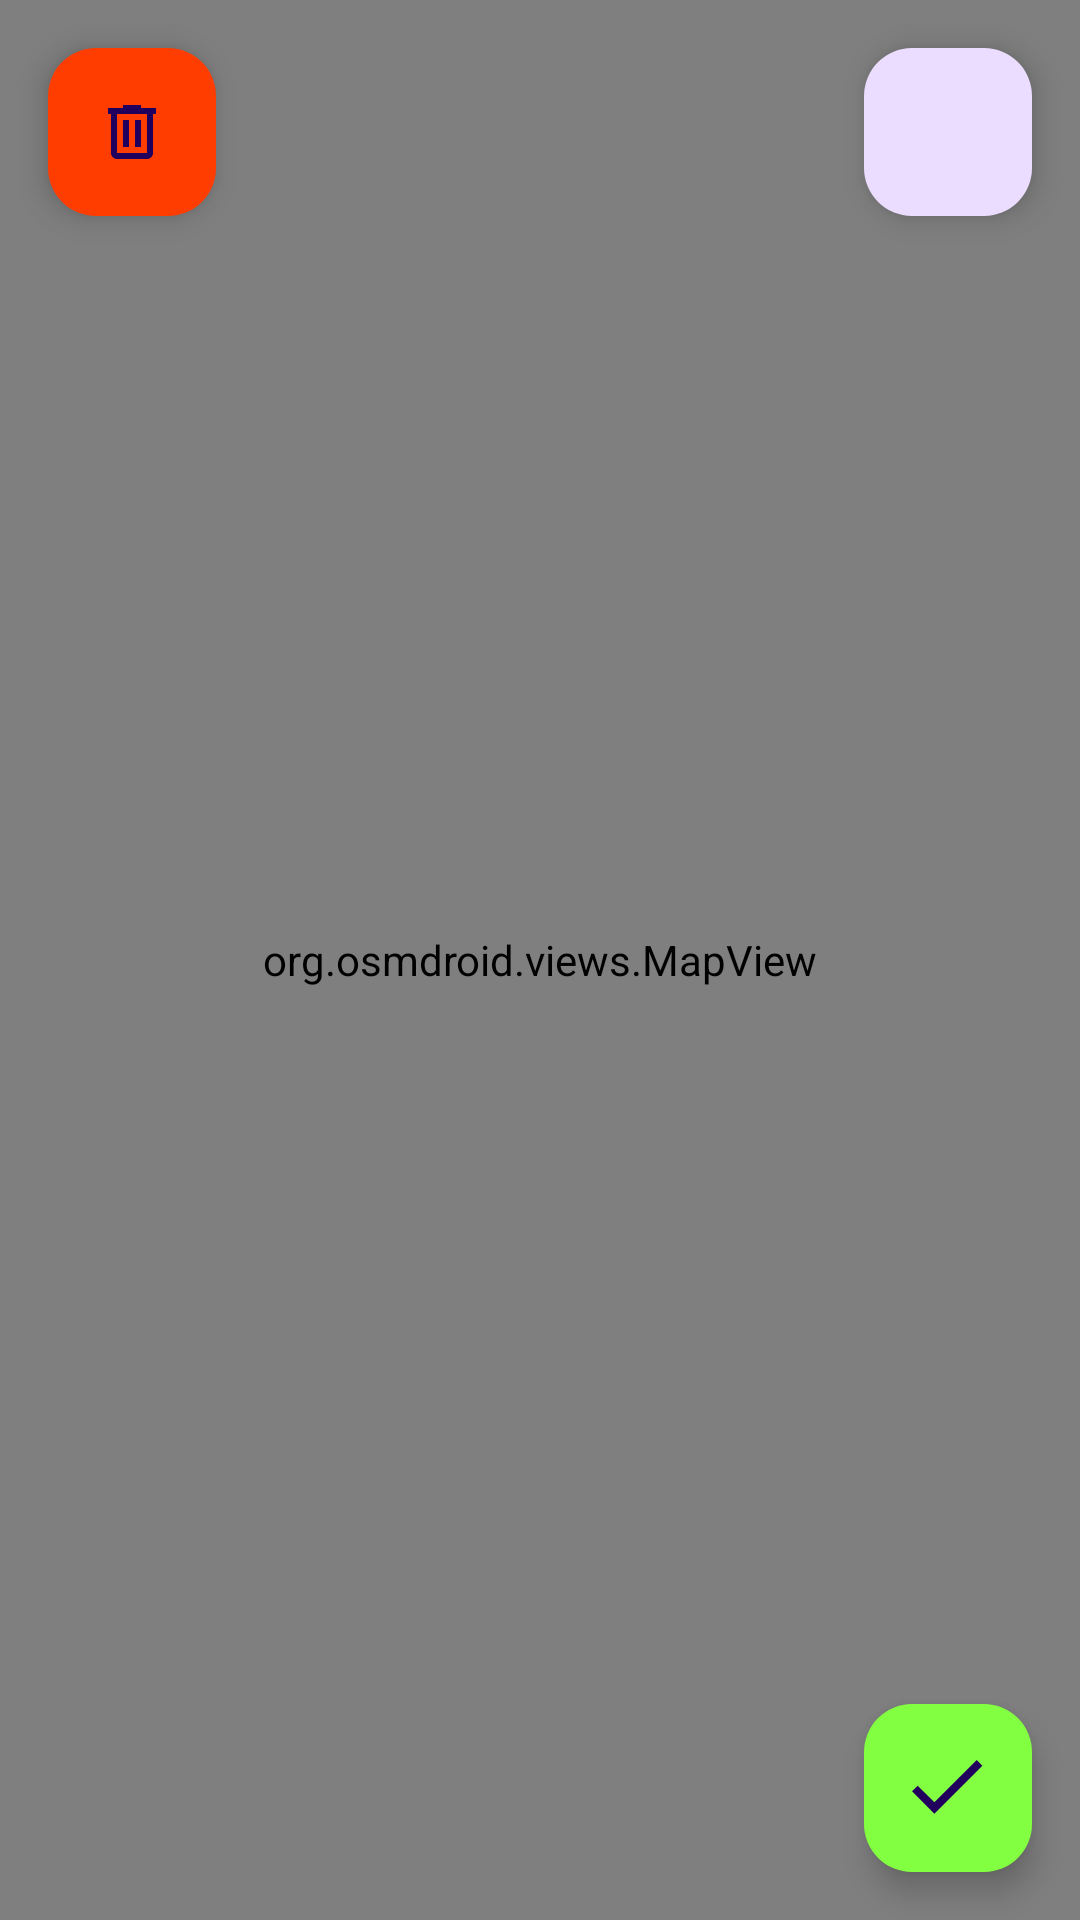

Named icons in this screenshot (1080px×1920px) and their bounding boxes, (x1, y1, x2, y2):
trash: (48, 48, 216, 216)
